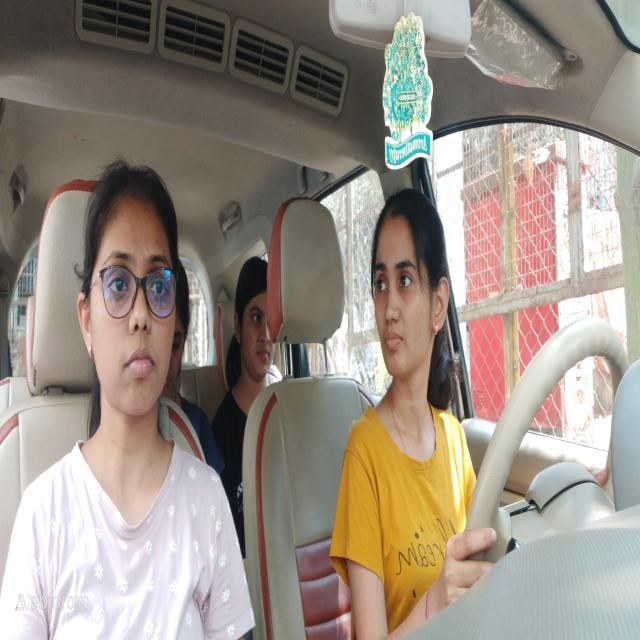LeftRight: (368, 186, 455, 384)
person: (75, 156, 182, 414), (232, 238, 275, 375)
